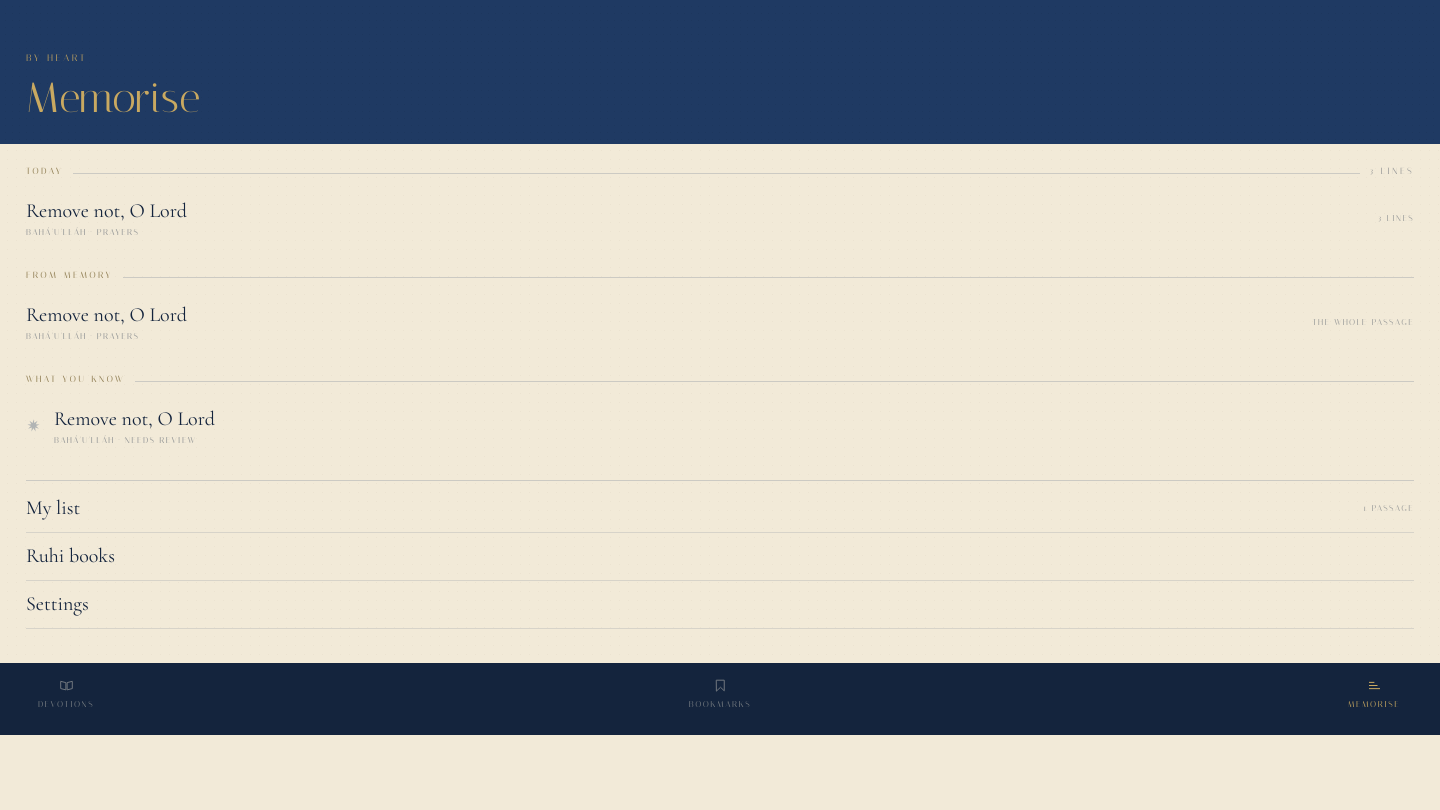
Test case: level 6, free recall › shows no words at all before the reveal
Expected: the heading "Memorise" is shown, [26, 73, 201, 123]
Click the link "Remove not, O Lord BAHÁ'U'LLÁH · PRAYERS 3 LINES". click: (106,211)
box: [26, 188, 1414, 248]
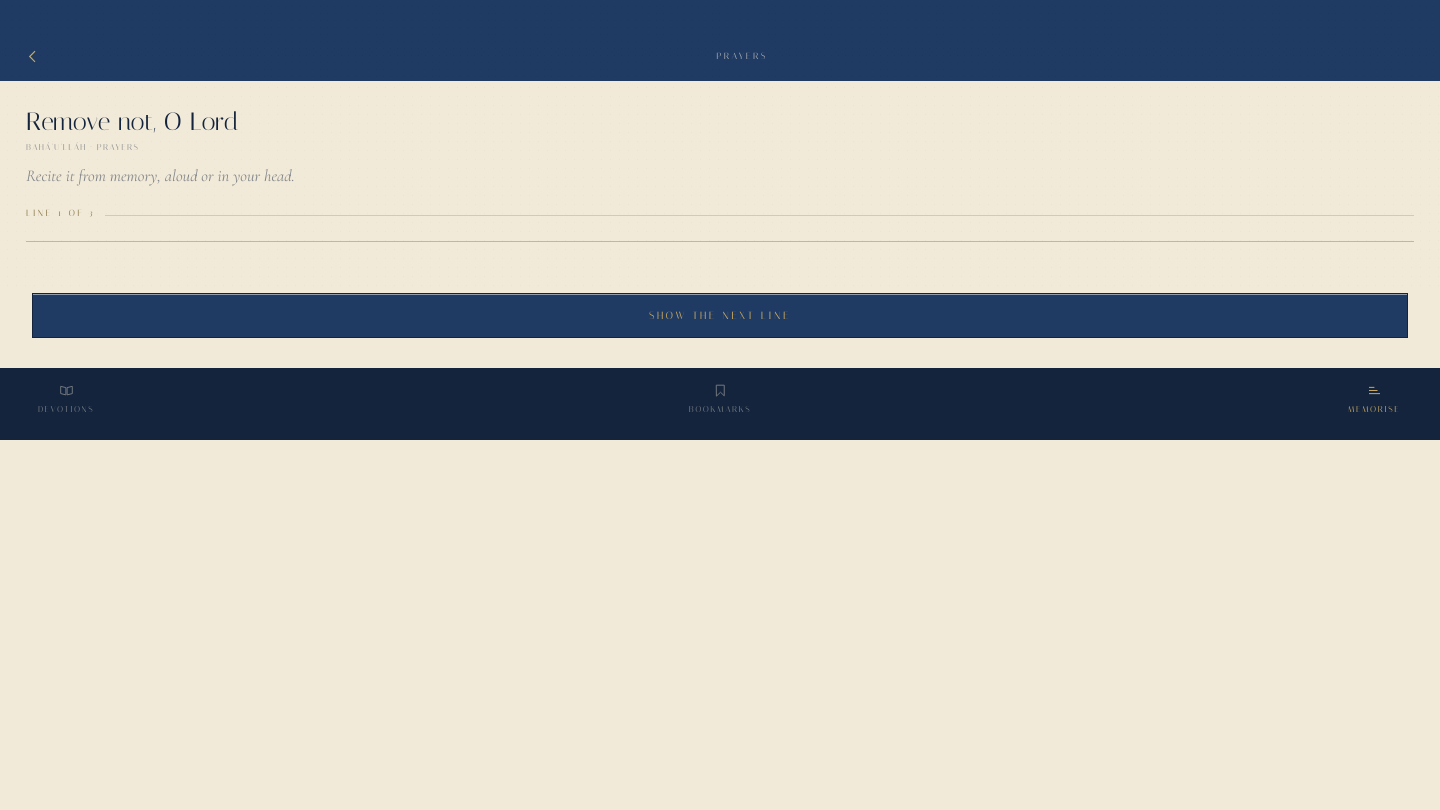
Result: the text "Recite it from memory, aloud or in your head." is shown at [26, 166, 295, 186]
